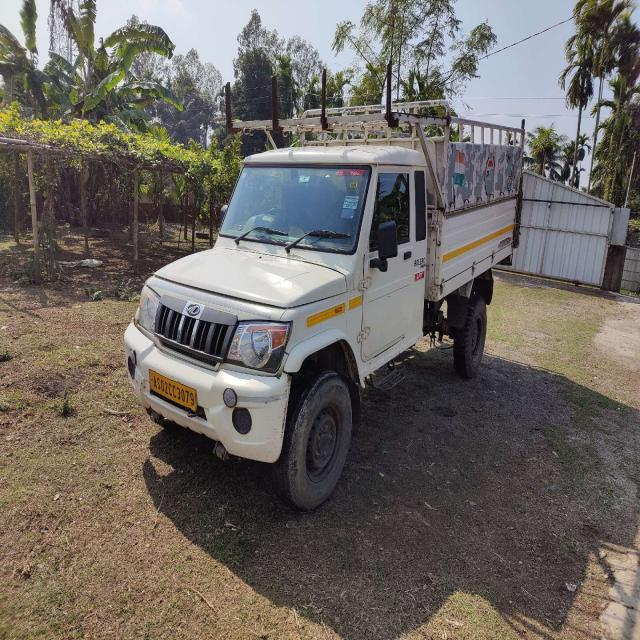light_vehicle: (124, 137, 528, 441)
